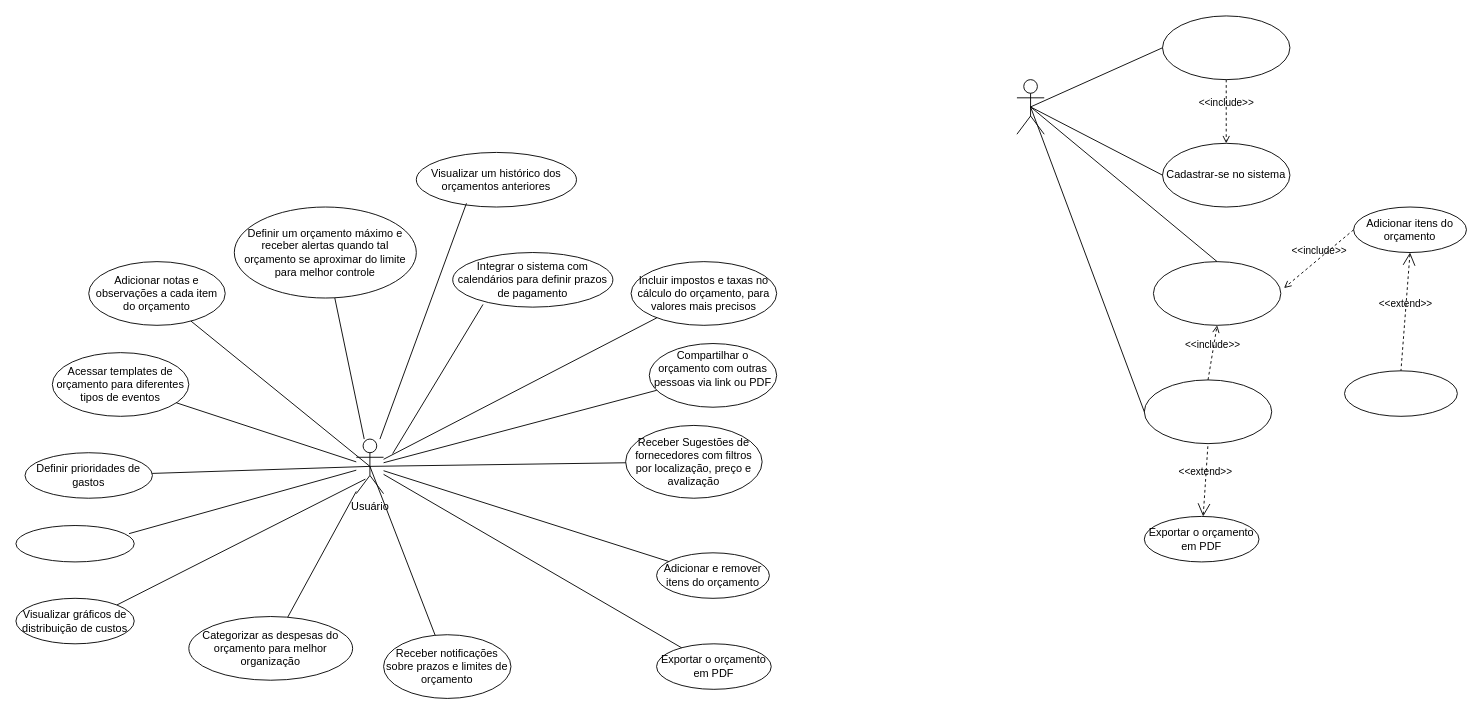
Some shapes in this 1482 by 714 pixel diagram are drawn without their labels. The centre of each missing label's shape, as x and y in pixels:
"Fazer Login" goes at pixel 1226 47.
"Importar dados de fornecedores" goes at pixel 74 543.
"Informar a descrição do evento (tipo, quantidade de pessoas, data, etc)" goes at pixel 1217 293.
"remover itens do orçamento" goes at pixel 1400 393.
"Usuario" goes at pixel 1030 106.
"Visualizar orçamento" goes at pixel 1207 411.
